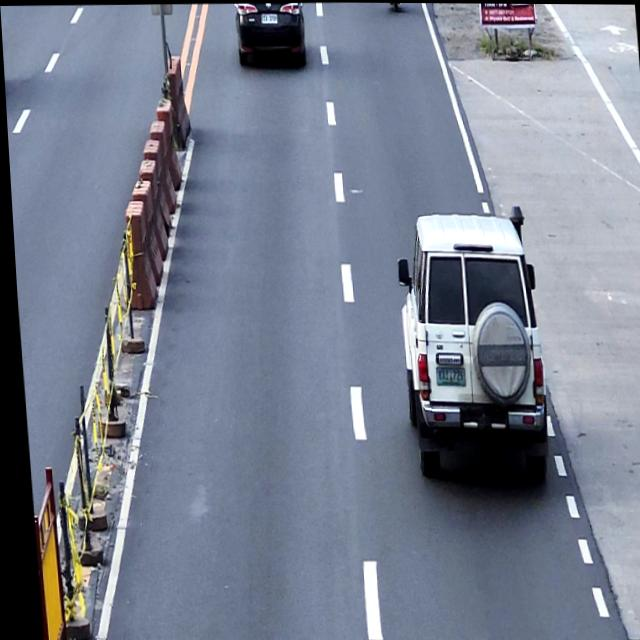Car: (388, 201, 547, 481), (233, 2, 307, 66)
License-Plate: (430, 362, 462, 386), (260, 13, 277, 24)
